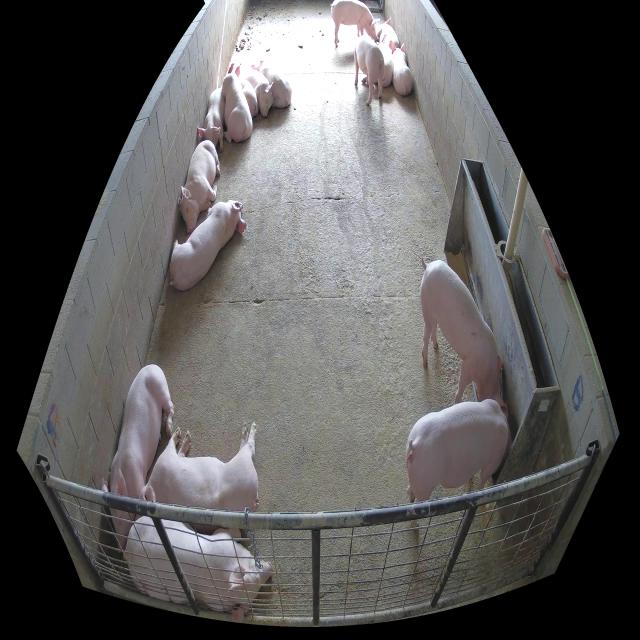pig: (124, 515, 274, 619), (419, 260, 508, 415), (101, 365, 174, 552), (406, 399, 512, 527), (139, 418, 259, 511), (170, 200, 248, 290), (178, 140, 221, 233), (222, 61, 252, 145), (330, 0, 381, 48), (354, 35, 384, 106), (251, 58, 292, 109), (239, 69, 280, 118), (198, 87, 224, 152), (391, 41, 414, 97), (378, 33, 394, 86), (239, 77, 257, 118), (377, 17, 399, 47)
